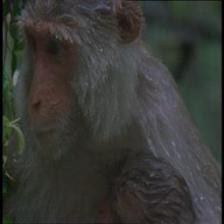monkey: (11, 2, 147, 178)
